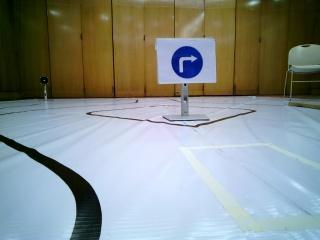right: (158, 39, 218, 82)
